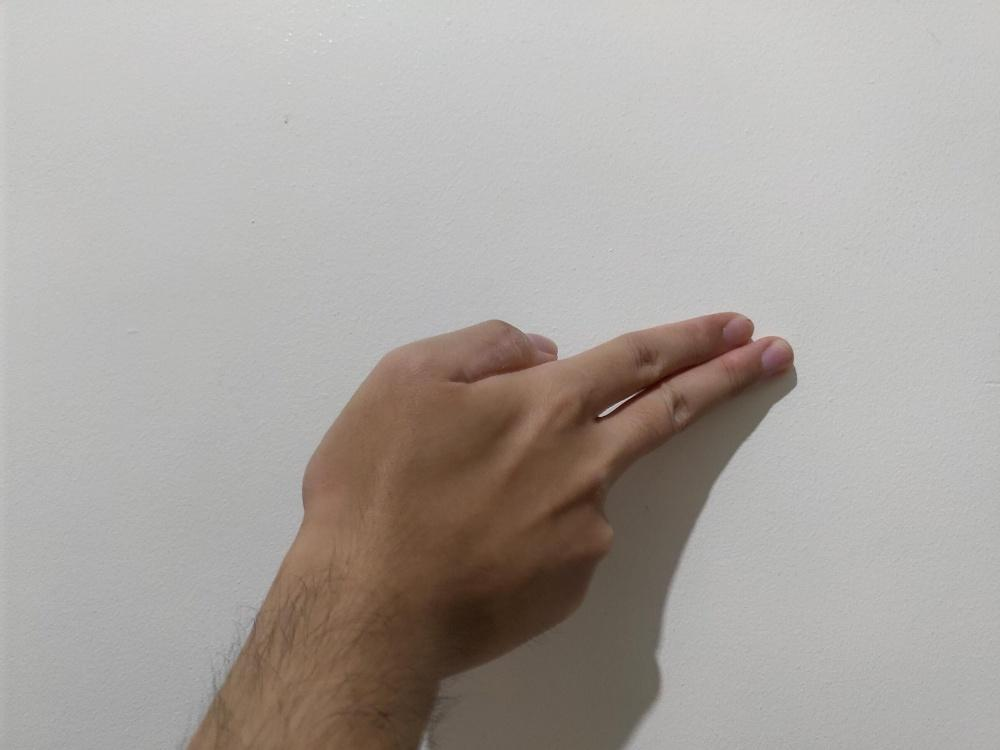h: (299, 309, 796, 676)
